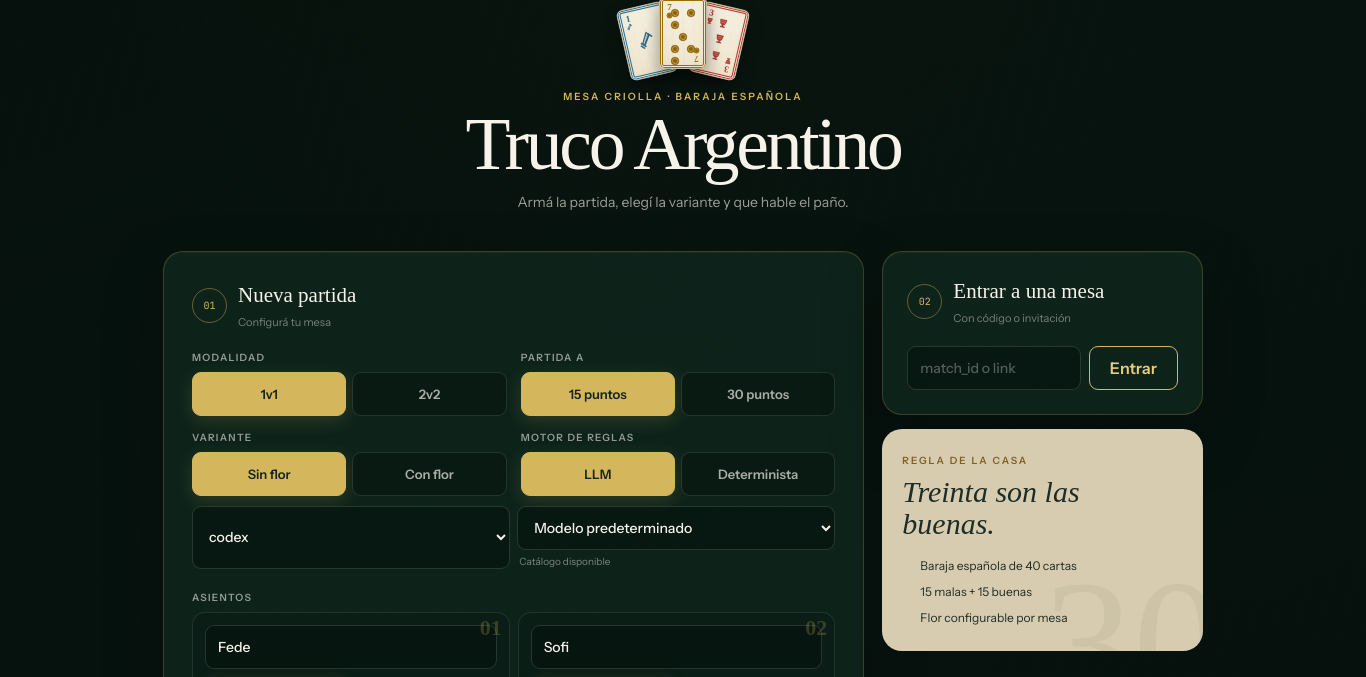
Test: cambiar a 2v2 muestra cuatro asientos
Click the button with test id "mode-2v2".
click(429, 394)  # box [352,372,507,416]
(page scrolled)
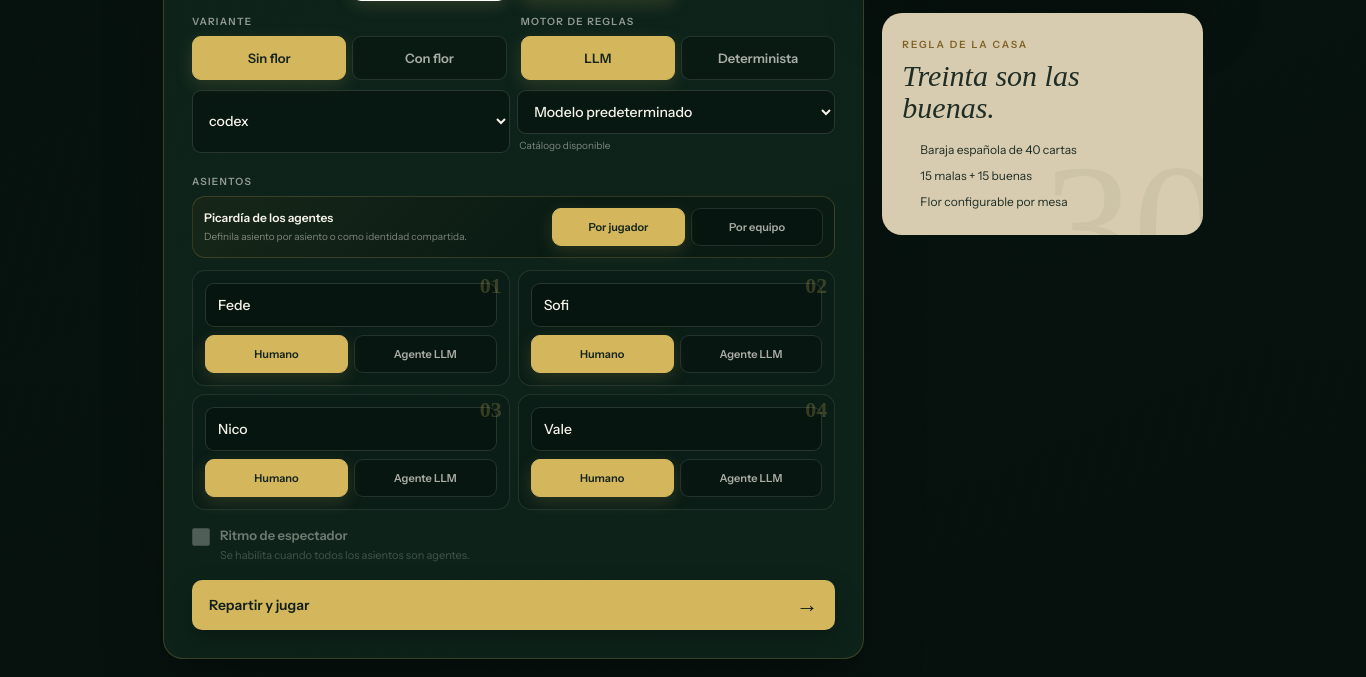
Check: the field with test id "seat-0" is shown, box [205,283,497,327]
Check: the field with test id "seat-2" is shown, box [205,407,497,451]
Check: the field with test id "seat-3" is shown, box [531,407,822,451]
